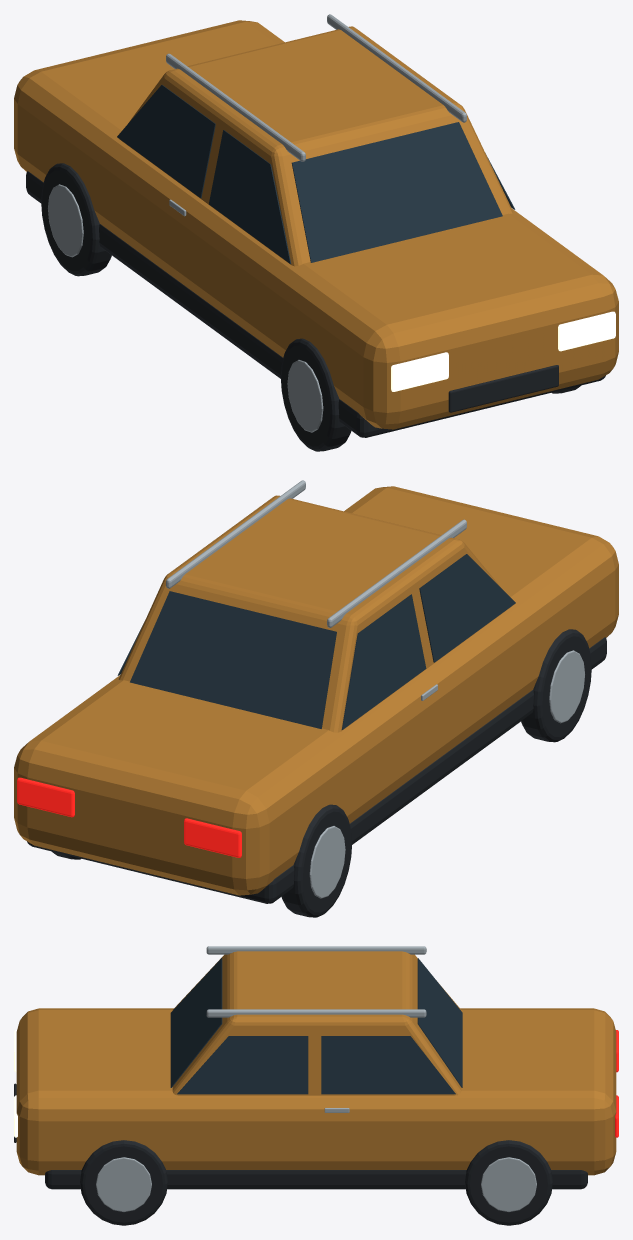
File: car-b.glb
3 renders of one model, top to bottom at view 1: azimuth 30°, elevation 25°; view 2: azimuth 150°, elevation 25°; view 3: azimuth 270°, elevation 25°, orthographic. The views are drawn at different scales.
Parts seen in each view (by area): view 1: car-body.001, car-cabin.001, windscreen.001, lower-sill.001, -1-rear-window.001, -1-front-window.001, wheel--1-1.001, wheel--1--1.001, front-grille.001, hub--1-1.001, hub--1--1.001, headlamp-1.001 (+3 smaller); view 2: car-body.001, car-cabin.001, rear-window.001, -1-rear-window.001, lower-sill.001, -1-front-window.001, wheel--1--1.001, wheel--1-1.001, hub--1--1.001, hub--1-1.001, tail-lamp-1.001, tail-lamp--1.001 (+2 smaller); view 3: car-body.001, car-cabin.001, lower-sill.001, 1-rear-window.001, 1-front-window.001, windscreen.001, wheel-1-1.001, wheel-1--1.001, rear-window.001, hub-1-1.001, hub-1--1.001, wagon-roof-rail-right (+1 smaller).
Boxes of the visible parts, x1,y1,x2,y2 form: car-body.001: (14,20,618,429); car-cabin.001: (119,26,513,266); windscreen.001: (291,122,502,262); lower-sill.001: (26,171,605,437); -1-rear-window.001: (117,85,215,198); -1-front-window.001: (209,130,291,263); wheel--1-1.001: (41,163,111,276); wheel--1--1.001: (280,338,351,451); front-grille.001: (448,365,558,412); hub--1-1.001: (48,184,83,257); hub--1--1.001: (287,360,323,432); headlamp-1.001: (558,311,615,351); car-body.001: (14,486,618,895); car-cabin.001: (118,495,512,732); rear-window.001: (130,591,336,728); -1-rear-window.001: (341,594,426,729); lower-sill.001: (27,637,606,903); -1-front-window.001: (419,554,515,662); wheel--1--1.001: (521,629,591,742); wheel--1-1.001: (281,804,352,917); hub--1--1.001: (549,650,584,723); hub--1-1.001: (309,826,345,898); tail-lamp-1.001: (17,777,74,817); tail-lamp--1.001: (184,818,241,857); car-body.001: (16,1008,616,1175); car-cabin.001: (172,951,461,1095); lower-sill.001: (45,1170,587,1189); 1-rear-window.001: (321,1036,455,1094); 1-front-window.001: (177,1036,308,1094); windscreen.001: (170,958,222,1087); wheel-1-1.001: (465,1140,552,1225); wheel-1--1.001: (80,1140,167,1225); rear-window.001: (417,958,462,1087); hub-1-1.001: (481,1157,536,1211); hub-1--1.001: (96,1157,151,1211); wagon-roof-rail-right: (206,1009,426,1017).
Bounding box in the file's own units: 1.9 × 1.7 × 4.7.
